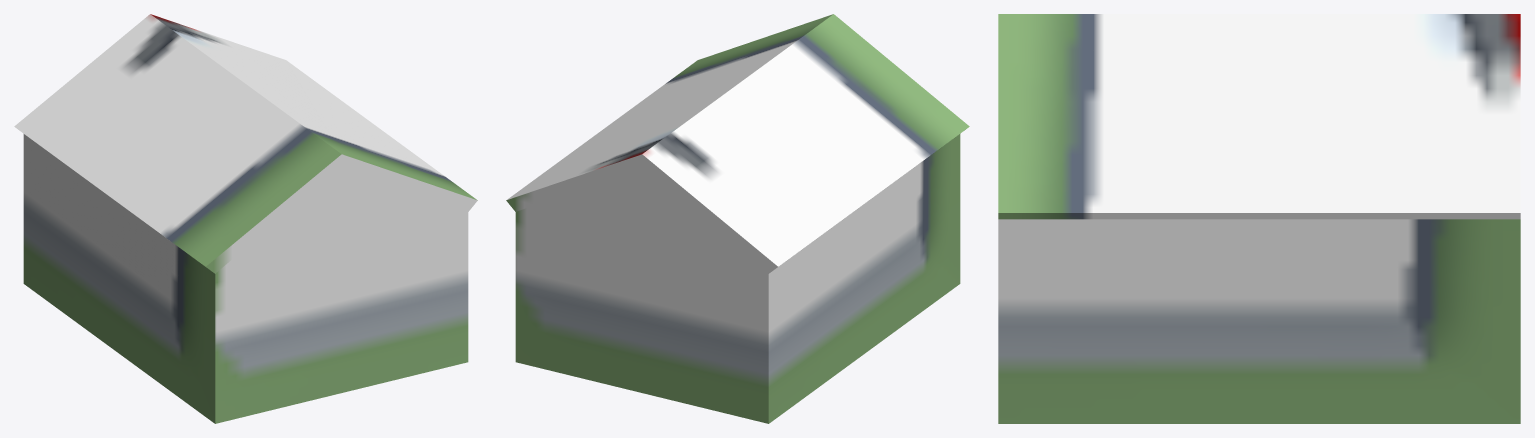
The model's file is House.FBX.
3 views of the same model, side by side, from view 1: azimuth 30°, elevation 25°; view 2: azimuth 150°, elevation 25°; view 3: azimuth 270°, elevation 25° (orthographic). The views are drawn at different scales.
Parts seen in each view (by area): view 1: Box01; view 2: Box01; view 3: Box01.
Boxes of the visible parts, x1,y1,x2,y2 form: Box01: [14, 14, 477, 423]; Box01: [506, 14, 969, 423]; Box01: [998, 14, 1520, 423].
Bounding box in the file's own units: 113 × 94.59 × 138.
